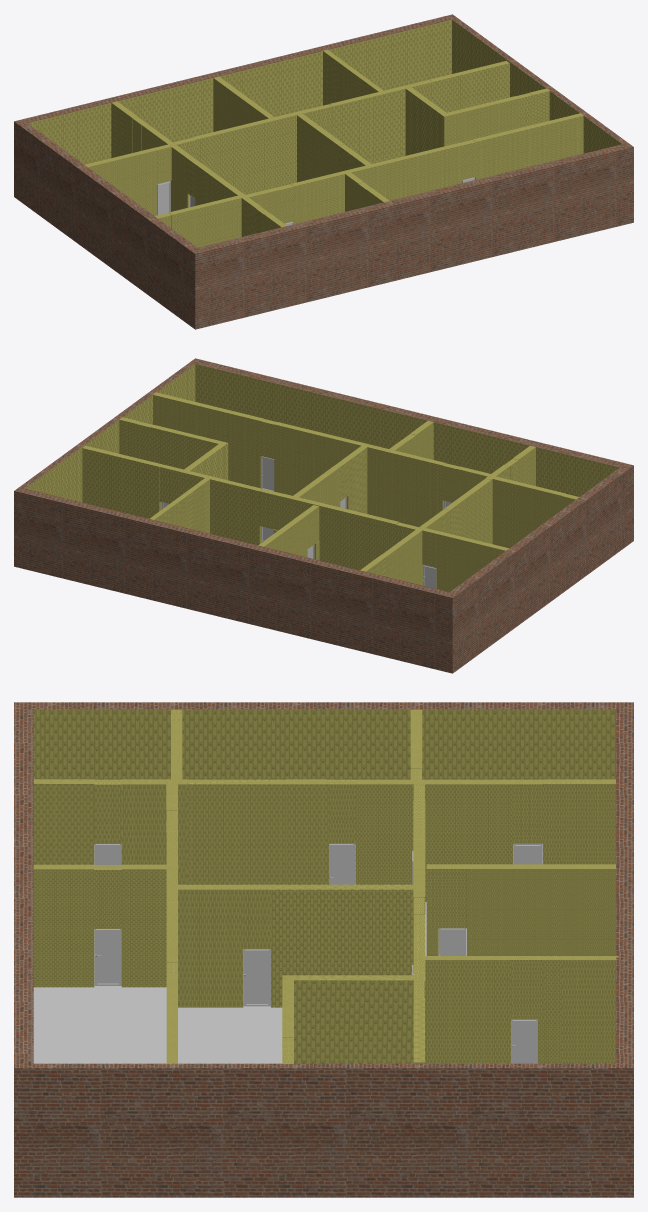
The model's file is Horrorhouse.fbx.
The picture shows the model from 3 angles, top to bottom: view 1: azimuth 30°, elevation 25°; view 2: azimuth 150°, elevation 25°; view 3: azimuth 270°, elevation 25°; orthographic projection. The views are drawn at different scales.
Visible parts, largest first — view 1: Cube.051, Cube.015, Cube.002, Cube.008, Cube.007, Cube.005, Cube.017, Cube.001, Cube.014, Cube.006, Cube.013, Cube.003 (+14 smaller); view 2: Cube.051, Cube.015, Cube.002, Cube.005, Cube.017, Cube.008, Cube.007, Cube.001, Cube.038, Cube.003, Cube.009, Cube.004 (+15 smaller); view 3: Cube.051, Plane.001, Cube.003, Cube.013, Cube.014, Cube.004, Cube.006, Cube.038, Cube.012, Cube.009, Cube.011, Cube.010 (+22 smaller).
Boxes of the visible parts, x1,y1,x2,y2 form: Cube.051: (14, 14, 633, 329); Cube.015: (301, 113, 583, 220); Cube.002: (193, 104, 329, 194); Cube.008: (330, 84, 412, 163); Cube.007: (441, 88, 549, 146); Cube.005: (430, 61, 509, 112); Cube.017: (168, 195, 241, 247); Cube.001: (85, 148, 157, 215); Cube.014: (297, 114, 343, 182); Cube.006: (405, 87, 448, 155); Cube.013: (213, 76, 262, 131); Cube.003: (141, 123, 192, 211); Cube.051: (14, 358, 633, 673); Cube.015: (152, 392, 435, 526); Cube.002: (262, 489, 398, 570); Cube.005: (82, 445, 162, 518); Cube.017: (492, 476, 565, 548); Cube.008: (179, 469, 262, 545); Cube.007: (119, 417, 228, 479); Cube.001: (436, 531, 508, 591); Cube.038: (456, 478, 492, 543); Cube.003: (390, 514, 441, 585); Cube.009: (343, 445, 367, 513); Cube.004: (385, 421, 433, 519); Cube.051: (14, 702, 633, 1197); Plane.001: (33, 844, 542, 1063); Cube.003: (355, 779, 513, 901); Cube.013: (467, 864, 615, 955); Cube.014: (271, 884, 413, 1007); Cube.004: (33, 864, 178, 987); Cube.006: (282, 975, 414, 1063); Cube.038: (187, 779, 286, 884); Cube.012: (420, 956, 510, 1063); Cube.009: (178, 884, 243, 1007); Cube.011: (538, 956, 618, 1063); Cube.010: (543, 779, 615, 864).
Bounding box in the file's own units: 521 × 86.84 × 373.
